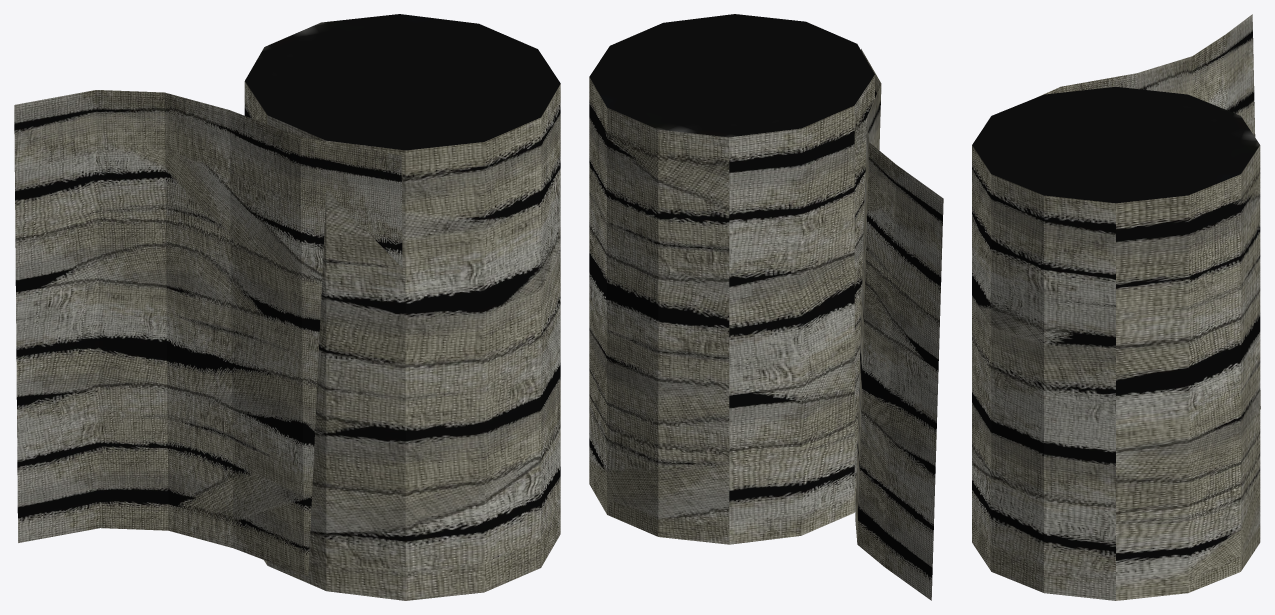
The model's file is bandages.fbx.
3 renders of one model, left to right at view 1: azimuth 30°, elevation 25°; view 2: azimuth 150°, elevation 25°; view 3: azimuth 270°, elevation 25°, orthographic. The views are drawn at different scales.
Visible parts, largest first — view 1: Plane, Cylinder; view 2: Cylinder, Plane; view 3: Cylinder, Plane.
Part boxes in pixels (box(x1,y1,x2,y2)): Plane: box(14, 90, 402, 575); Cylinder: box(244, 14, 560, 600); Cylinder: box(589, 14, 874, 544); Plane: box(855, 49, 943, 600); Cylinder: box(972, 86, 1260, 600); Plane: box(1038, 14, 1260, 409).
Size of the model in its own units: 115 by 112 by 72.77.
Materials: 2 (2 with a texture image).
